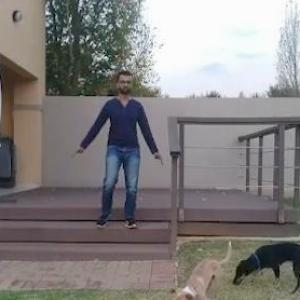land: (76, 73, 164, 238)
